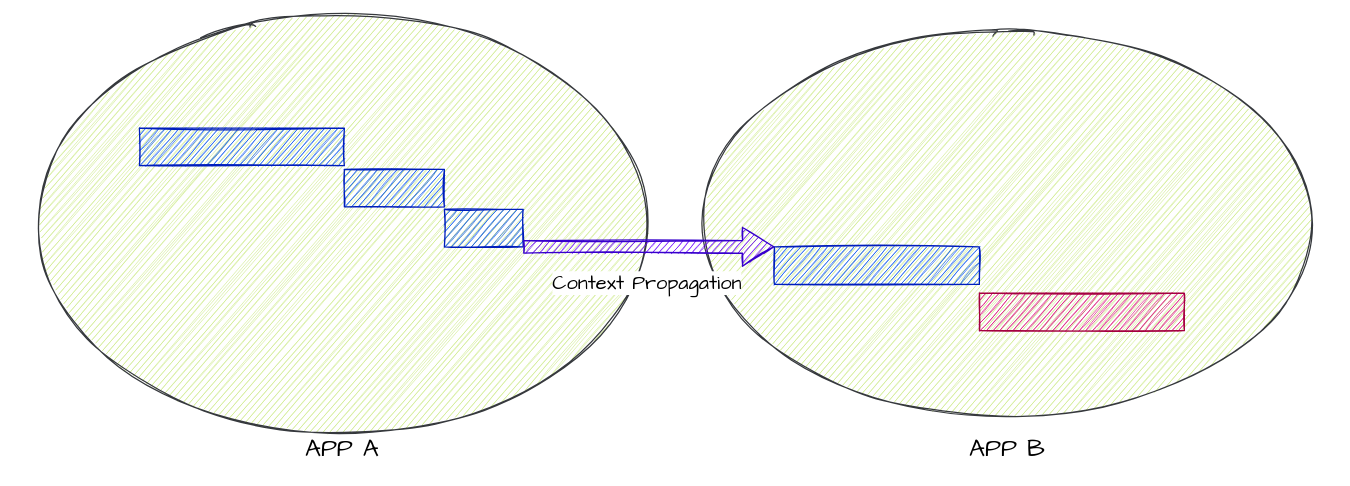
The diagram is 1350 pixels wide and 486 high, and some of its shapes have lost their labels. The shapes that lost their labels are listed below. From the top down, each one's centre as x and y in pixels, then its label:
pixel 241 146: Span
pixel 1081 311: Span ( Error )
